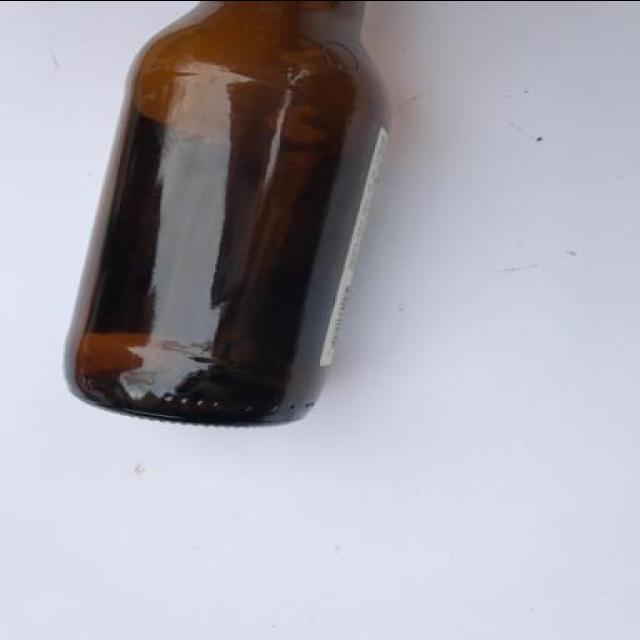litter: (61, 1, 396, 425)
